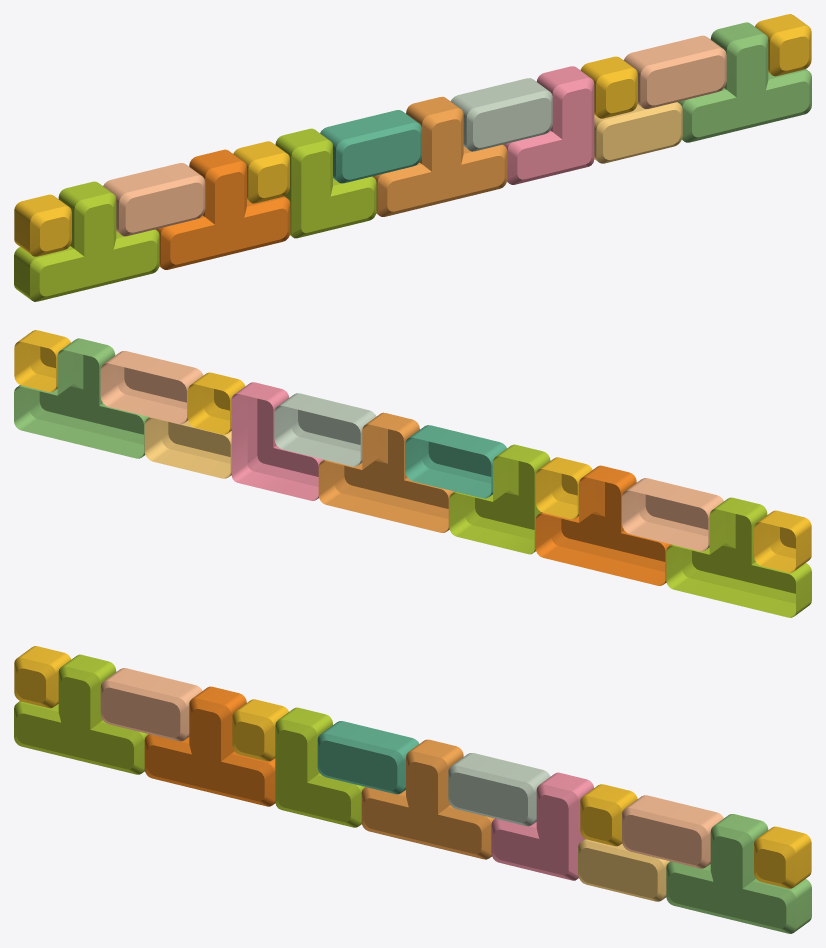
File: boxes.fbx
3 renders of one model, top to bottom at view 1: azimuth 30°, elevation 25°; view 2: azimuth 150°, elevation 25°; view 3: azimuth 330°, elevation 25°, orthographic.
Visible parts, largest first — view 1: box03, box03.001, box03.004, box03.005, box03.002, box03.003, box02.002, box02, box02.003, box02.004, box02.001, box01 (+3 smaller); view 2: box03, box03.004, box03.001, box03.005, box03.002, box03.003, box02.002, box02.003, box02, box02.004, box02.001, box01 (+3 smaller); view 3: box03.004, box03.001, box03, box03.005, box03.002, box03.003, box02, box02.002, box02.003, box02.004, box02.001, box01.001 (+3 smaller).
Boxes of the visible parts, x1,y1,x2,y2 form: box03: (14, 181, 159, 301); box03.001: (156, 149, 290, 269); box03.004: (678, 22, 811, 142); box03.005: (372, 96, 507, 216); box03.002: (275, 128, 376, 238); box03.003: (503, 66, 594, 184); box02.002: (450, 78, 552, 151); box02: (103, 163, 205, 236); box02.003: (623, 35, 726, 108); box02.004: (320, 110, 421, 183); box02.001: (594, 102, 682, 163); box01: (14, 194, 71, 256); box03: (666, 497, 811, 617); box03.004: (14, 338, 149, 458); box03.001: (535, 465, 671, 585); box03.005: (318, 412, 454, 532); box03.002: (449, 444, 550, 554); box03.003: (231, 382, 323, 500); box02.002: (274, 393, 376, 466); box02.003: (100, 351, 203, 424); box02: (622, 478, 723, 551); box02.004: (405, 425, 506, 498); box02.001: (144, 417, 231, 478); box01: (754, 510, 811, 572); box03.004: (666, 814, 811, 933); box03.001: (144, 686, 275, 806); box03: (14, 654, 148, 774); box03.005: (361, 739, 494, 859); box03.002: (275, 707, 365, 827); box03.003: (491, 772, 593, 880); box02: (100, 668, 202, 741); box02.002: (448, 753, 550, 826); box02.003: (622, 795, 723, 868); box02.004: (317, 721, 419, 794); box02.001: (578, 838, 669, 901); box01.001: (754, 826, 811, 888).
Bounding box in the file's own units: 617 × 68.52 × 26.68.
